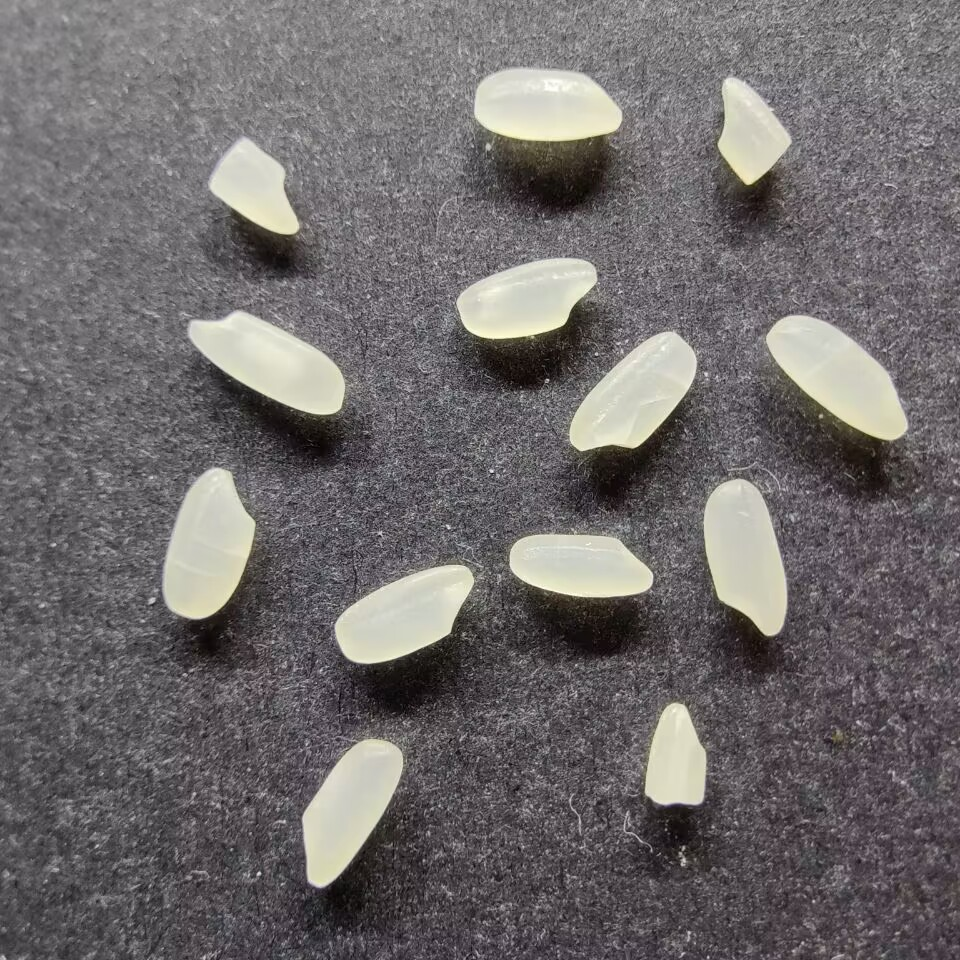broken: (207, 137, 299, 236), (715, 75, 791, 186), (642, 701, 708, 805)
rice: (764, 313, 909, 441), (186, 309, 345, 416), (567, 331, 697, 452), (300, 737, 402, 888), (161, 467, 255, 620), (701, 477, 789, 637), (333, 564, 473, 664), (455, 257, 598, 339), (472, 67, 622, 141), (507, 533, 653, 598)
